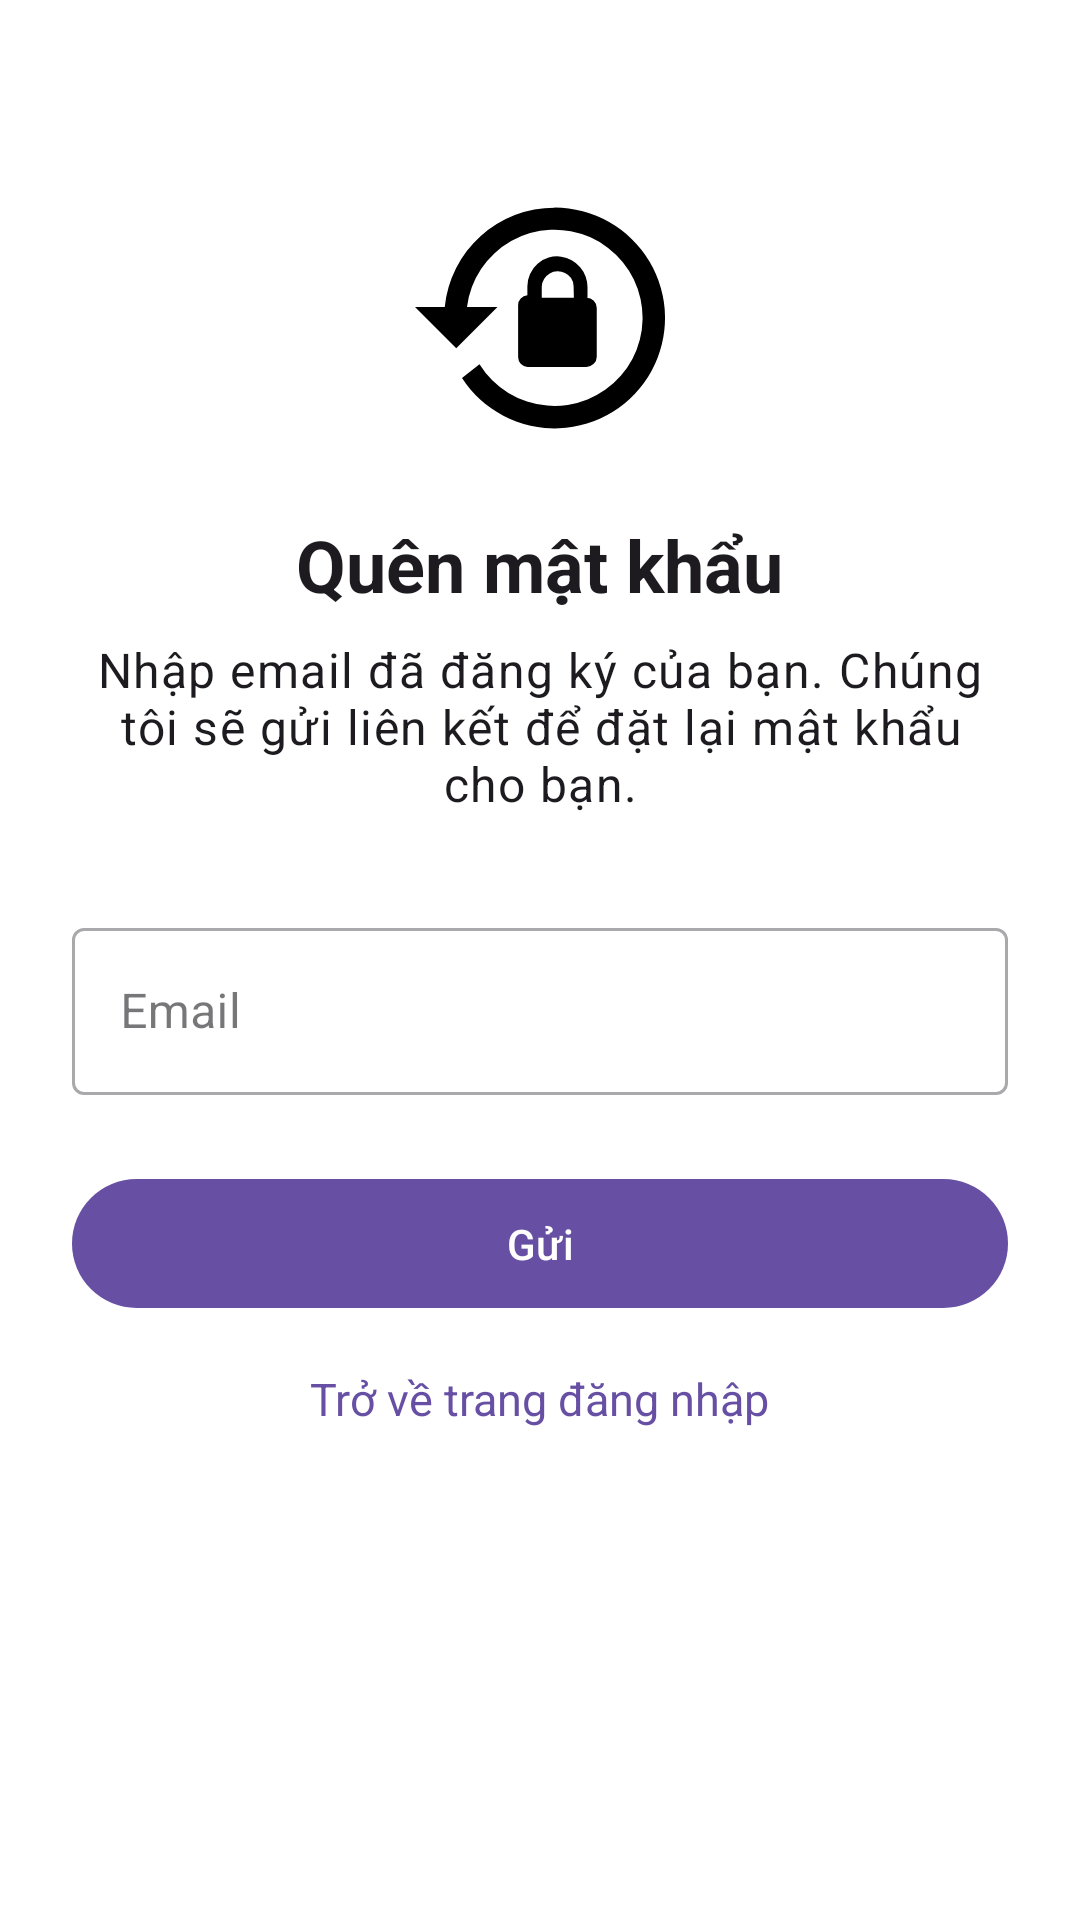

Where to tap for icons on this 1080w x 1920h app screen, as point (x, y):
lock reset: point (540, 318)
